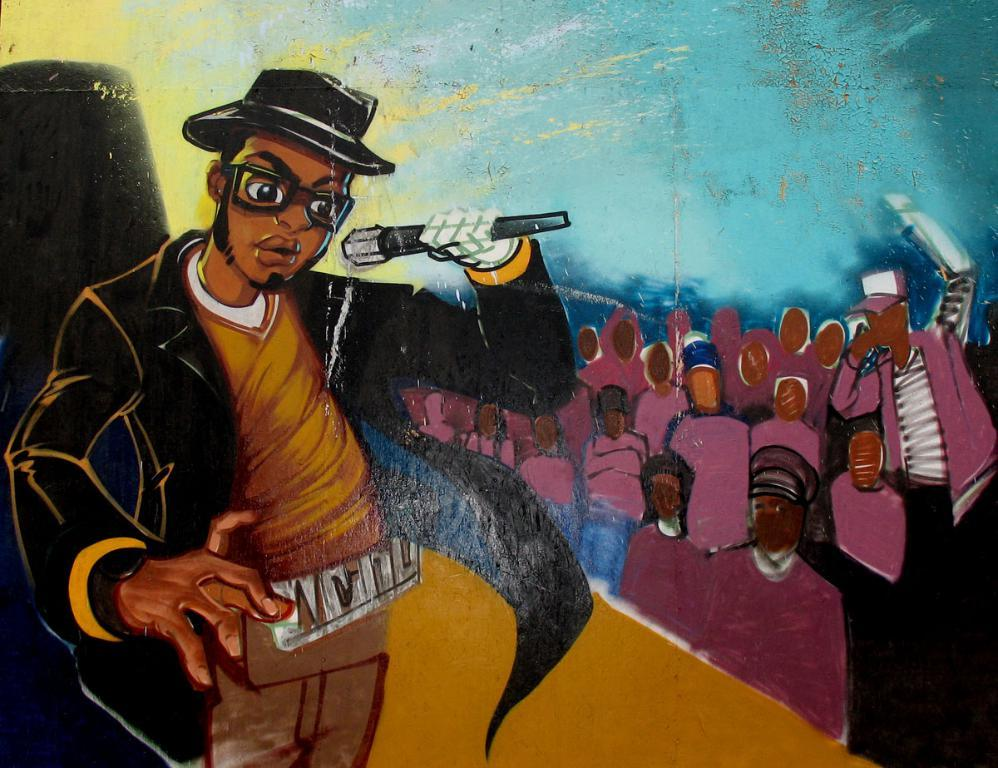Hat: (183, 65, 398, 178), (840, 266, 908, 323)
